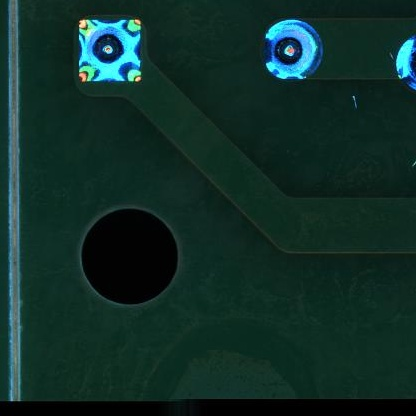spot: (78, 18, 140, 84), (265, 20, 325, 81)
